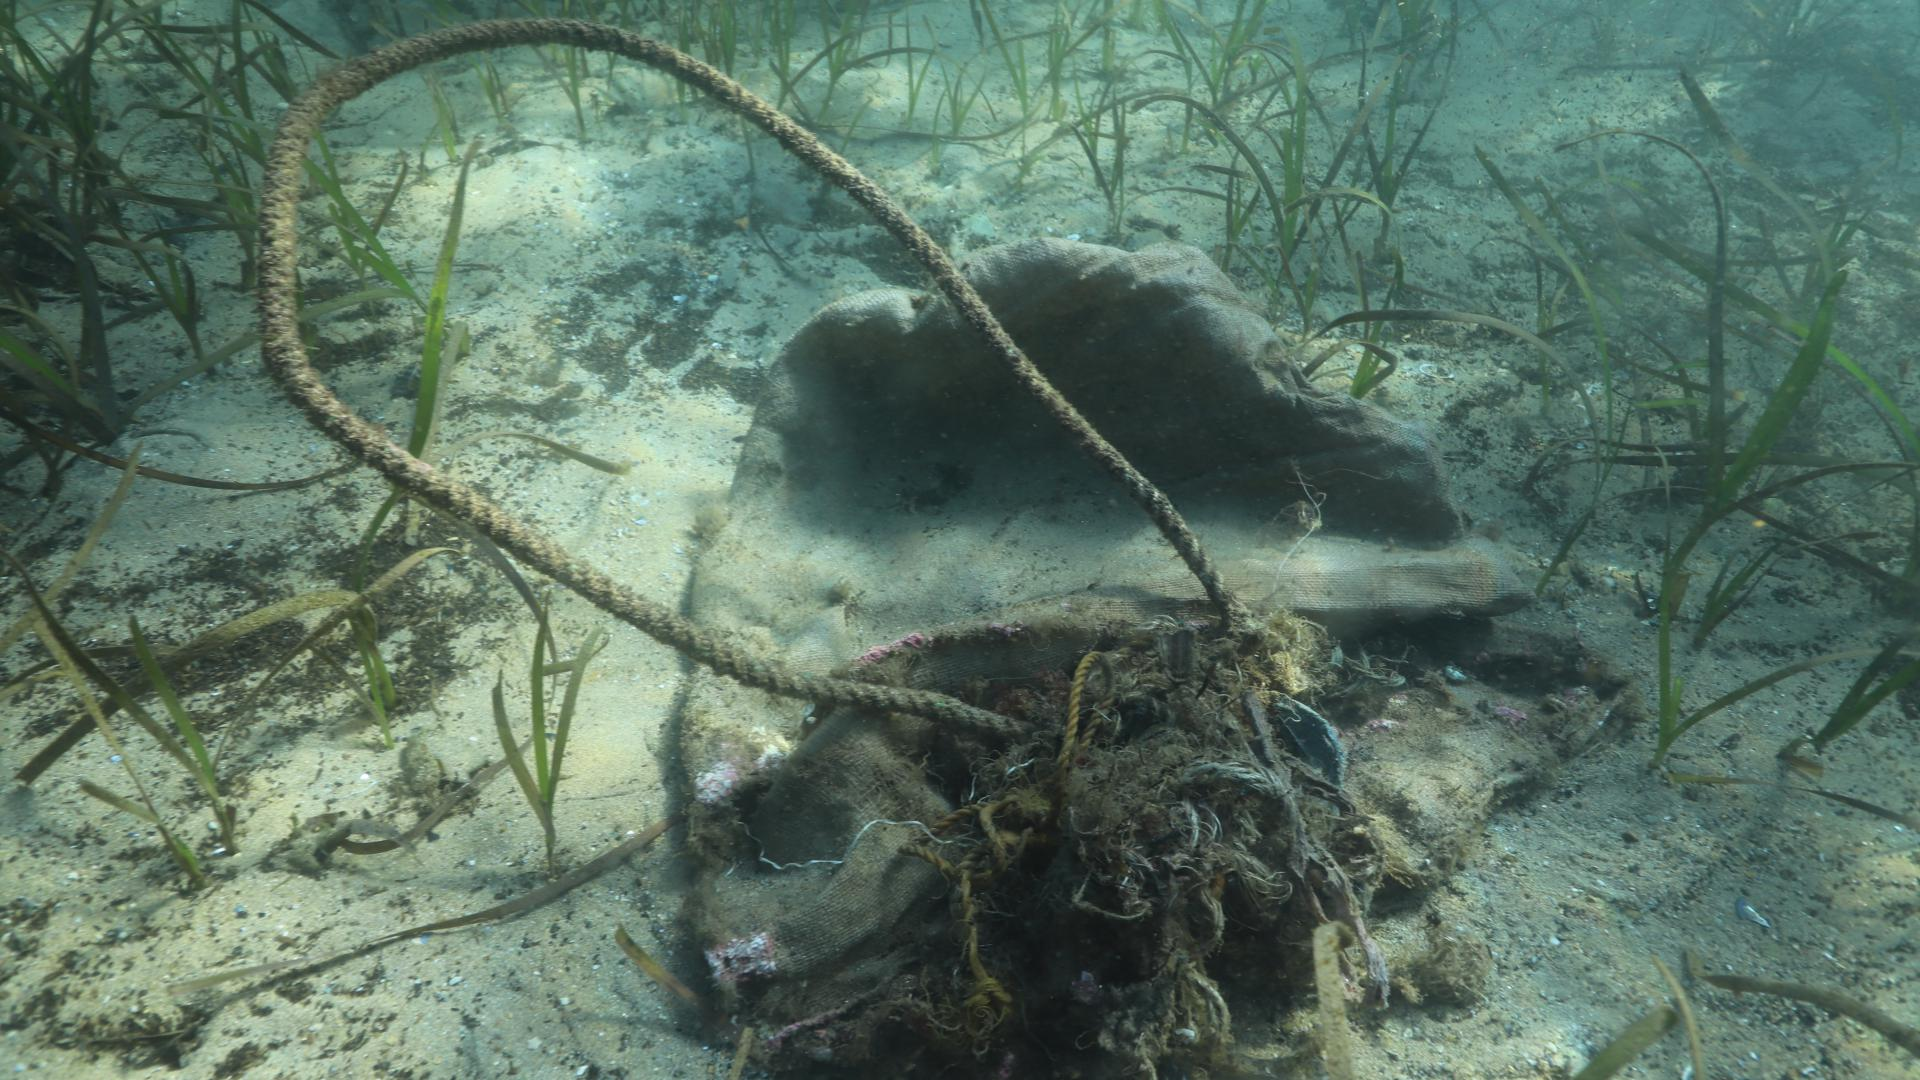bundle of ropes: (890, 644, 1122, 977)
rope: (262, 11, 1255, 736)
